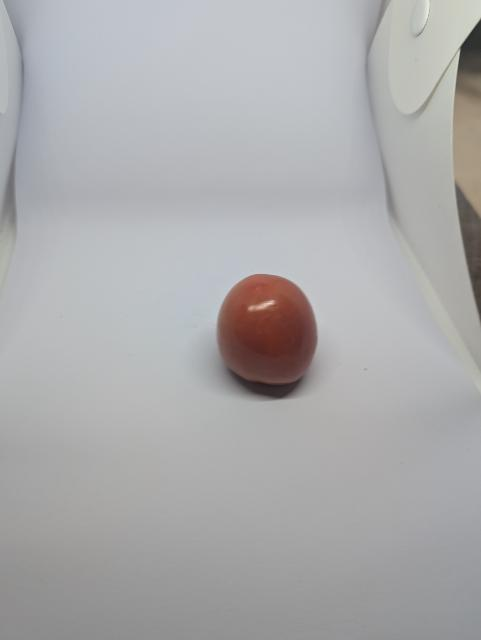red: (202, 264, 340, 406)
